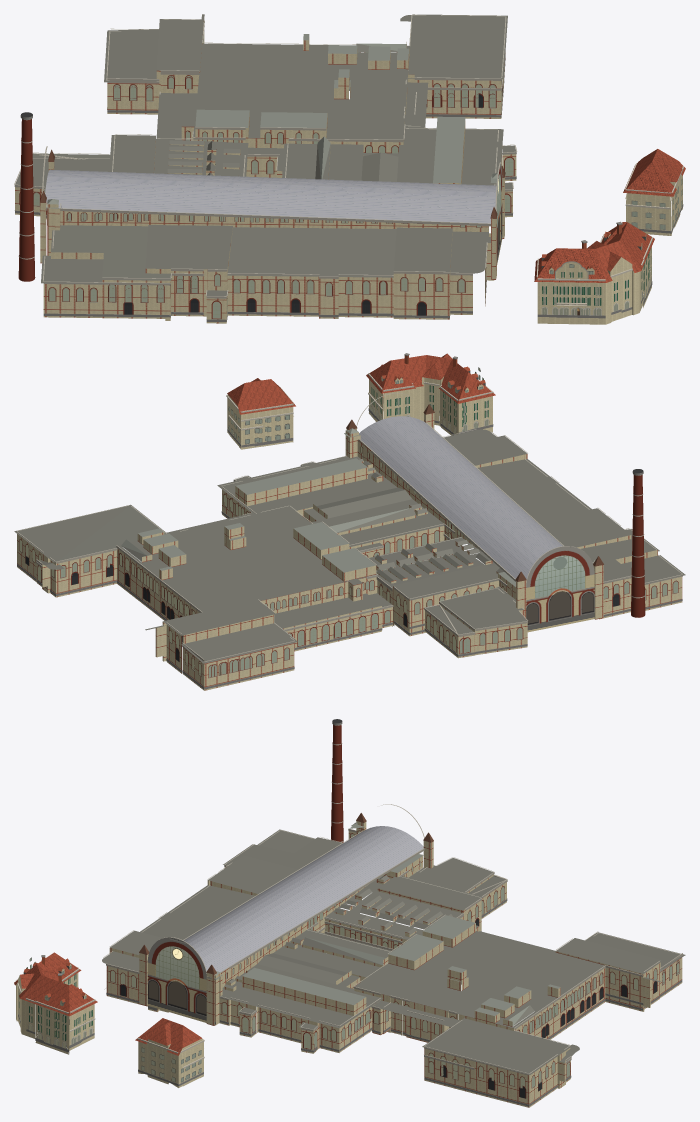
Rendered from schlachthof.glb.
3 views of the same model, one above another, from view 1: azimuth 30°, elevation 25°; view 2: azimuth 150°, elevation 25°; view 3: azimuth 270°, elevation 25° (orthographic). The views are drawn at different scales.
Parts seen in each view (by area): view 1: schlachthof; view 2: schlachthof; view 3: schlachthof.
Boxes of the visible parts, bbox=[...] form: schlachthof: bbox=[14, 14, 685, 324]; schlachthof: bbox=[14, 353, 685, 690]; schlachthof: bbox=[14, 719, 685, 1107].
Bounding box in the file's own units: 198 × 54.22 × 222.
Materials: 8 (7 with a texture image).
